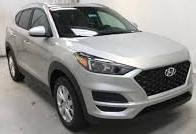SUV: (7, 6, 194, 130)
